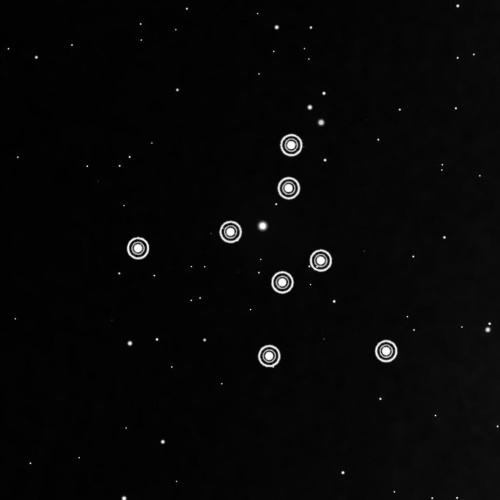hercules: (121, 129, 404, 373)
